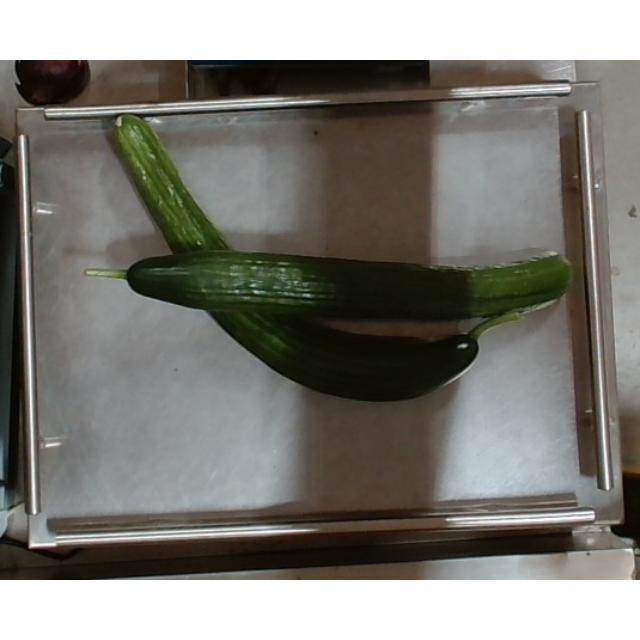cucumber: (87, 110, 536, 404), (80, 245, 582, 317)
